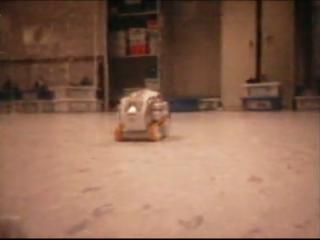cozmo: (112, 87, 171, 142)
